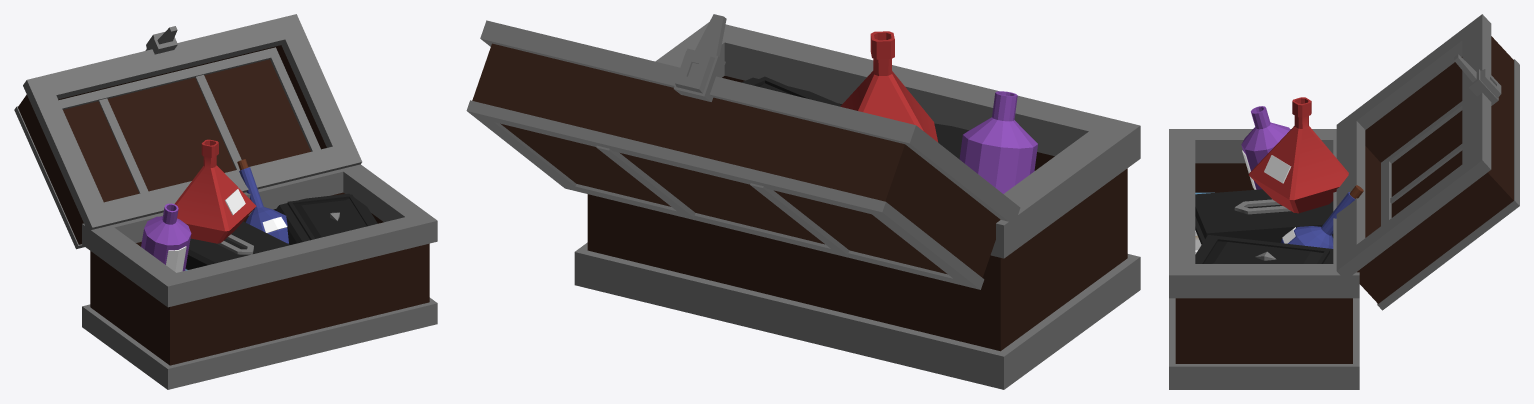
File: SM_crate_potions.fbx
3 renders of one model, left to right at view 1: azimuth 30°, elevation 25°; view 2: azimuth 150°, elevation 25°; view 3: azimuth 270°, elevation 25°, orthographic. The views are drawn at different scales.
Parts seen in each view (by area): view 1: Cylinder046; view 2: Cylinder046; view 3: Cylinder046.
Part boxes in pixels (x1,y1,x2,y2): Cylinder046: (14,14,437,389); Cylinder046: (466,14,1140,389); Cylinder046: (1169,14,1519,389).
Bounding box in the file's own units: 50.82 × 42.3 × 51.5.
